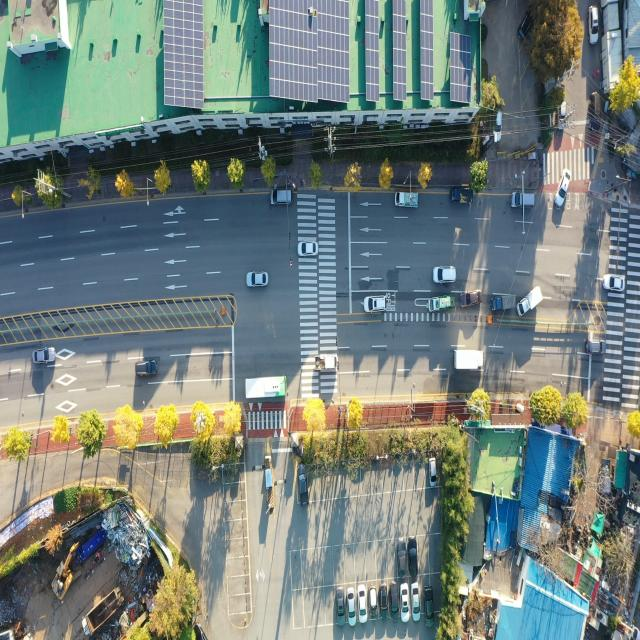car: (555, 168, 572, 208), (510, 190, 536, 210), (457, 291, 483, 310), (410, 580, 421, 622), (297, 465, 308, 506), (435, 267, 458, 285), (365, 295, 388, 312), (134, 359, 157, 376), (396, 539, 406, 578), (272, 188, 294, 205), (409, 540, 419, 576), (519, 12, 531, 42), (34, 348, 56, 364), (247, 272, 268, 288), (604, 276, 625, 292), (390, 584, 399, 621), (298, 240, 318, 256), (590, 5, 598, 44), (338, 588, 346, 624), (358, 586, 366, 622), (380, 586, 389, 618), (400, 585, 408, 620), (585, 341, 603, 356), (426, 586, 433, 624), (368, 586, 376, 619), (494, 110, 502, 142), (348, 588, 355, 624), (559, 102, 567, 131), (429, 458, 436, 487)
large_bus: (245, 377, 289, 400), (453, 348, 484, 371)
medium_truck: (80, 580, 124, 637)
small_truck: (517, 287, 543, 319), (394, 190, 418, 208), (491, 295, 513, 314), (590, 93, 600, 133), (449, 188, 473, 204), (428, 296, 452, 312)
